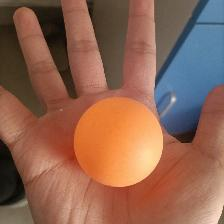YellowBall: (73, 97, 163, 188)
